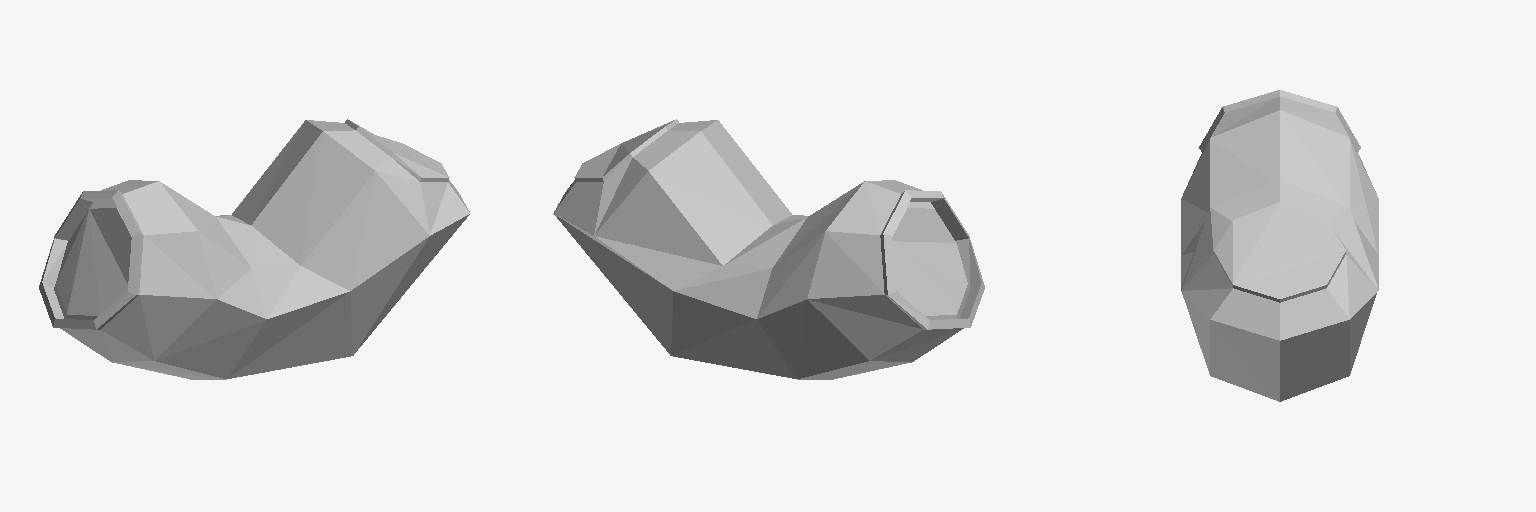
The model's file is Can_03_GEO.obj.
The picture shows the model from 3 angles: view 1: azimuth 30°, elevation 25°; view 2: azimuth 150°, elevation 25°; view 3: azimuth 270°, elevation 25°; orthographic projection.
Visible parts, largest first — view 1: Can_03_GEO; view 2: Can_03_GEO; view 3: Can_03_GEO.
Part boxes in pixels (left/top/right/bottom): Can_03_GEO: left=39, top=119, right=470, bottom=379; Can_03_GEO: left=553, top=119, right=984, bottom=379; Can_03_GEO: left=1181, top=90, right=1378, bottom=401.
Size of the model in its own units: 1709 by 874 by 720.